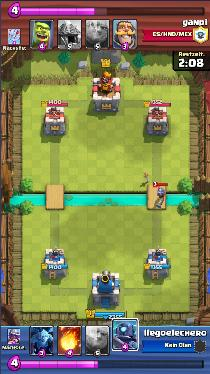enemy_musketeer: (155, 187, 167, 207)
